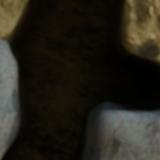broken_brick: (91, 108, 159, 159), (0, 39, 14, 159)
crack: (1, 0, 159, 159)
